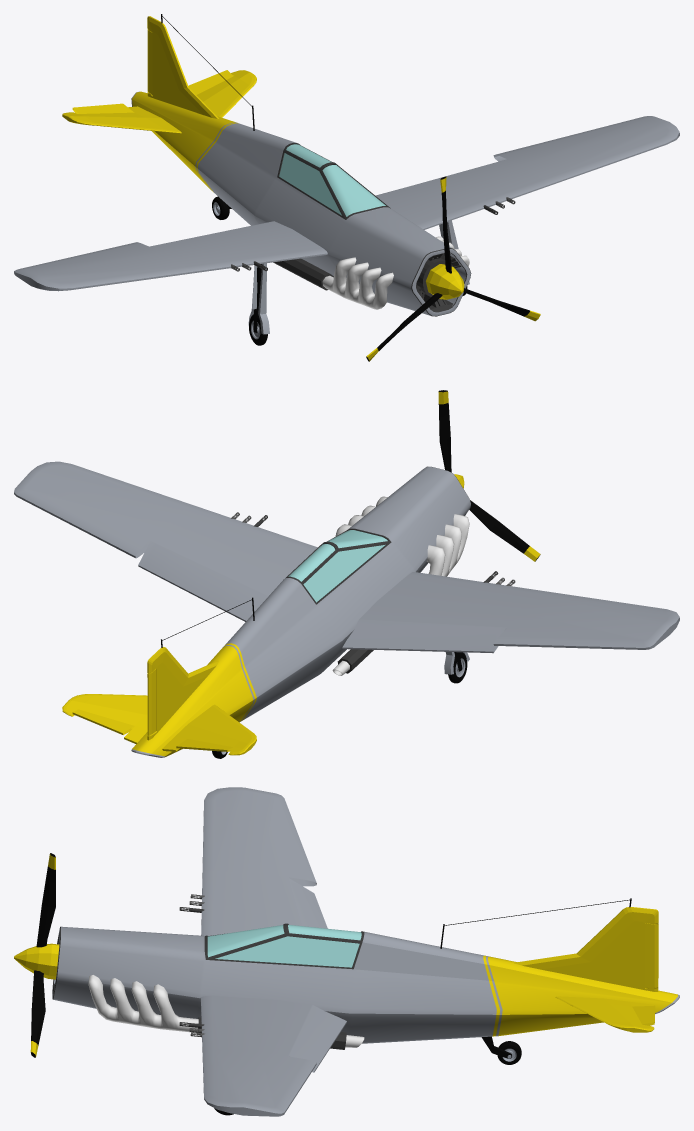
File: air_propeller_plane_-_lowpoly.glb
3 views of the same model, one above another, from view 1: azimuth 30°, elevation 25°; view 2: azimuth 150°, elevation 25°; view 3: azimuth 270°, elevation 25° (orthographic). The views are drawn at different scales.
Visible parts, largest first — view 1: Cube.003_7, Cylinder.002_6, Cylinder.001_4, Cube.005_3; view 2: Cube.003_7, Cylinder.002_6, Cylinder.001_4; view 3: Cube.003_7, Cylinder.002_6, Cylinder.001_4.
Boxes of the visible parts, <box> form: Cube.003_7: <box>14,91,679,316</box>; Cylinder.002_6: <box>62,14,515,311</box>; Cylinder.001_4: <box>366,176,540,361</box>; Cube.005_3: <box>248,263,269,334</box>; Cube.003_7: <box>14,461,679,757</box>; Cylinder.002_6: <box>62,496,515,755</box>; Cylinder.001_4: <box>438,390,540,561</box>; Cube.003_7: <box>52,787,679,1116</box>; Cylinder.002_6: <box>53,894,658,1058</box>; Cylinder.001_4: <box>14,853,59,1057</box>.
Size of the model in its own units: 14.09 by 4.3 by 12.39.
